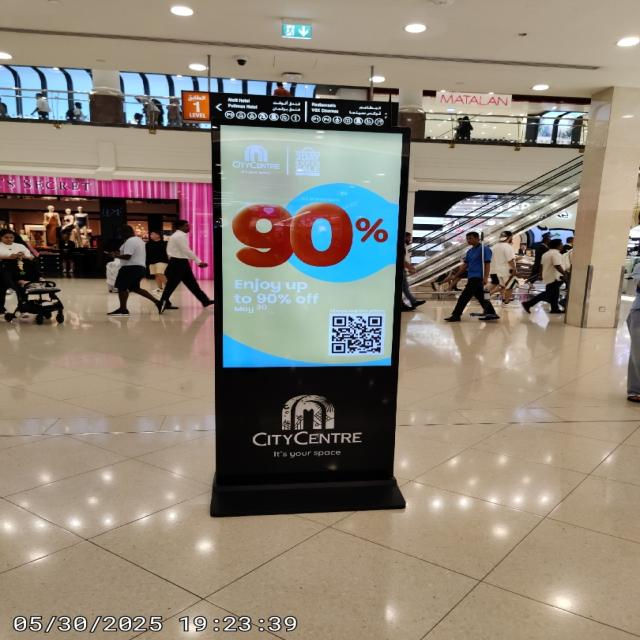mupi: (212, 121, 411, 484)
